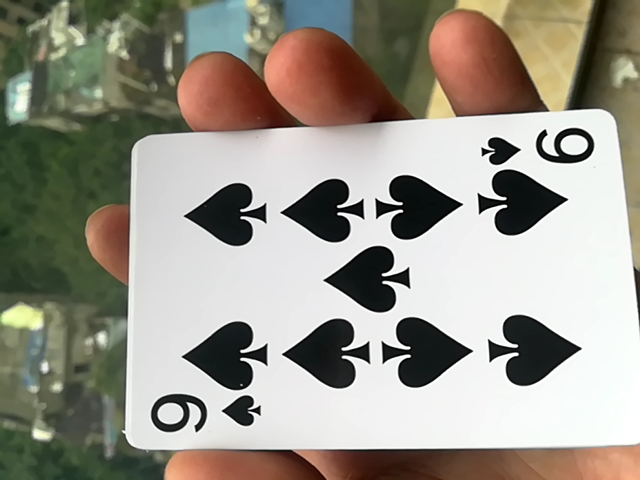ht 9: (115, 122, 635, 466)
